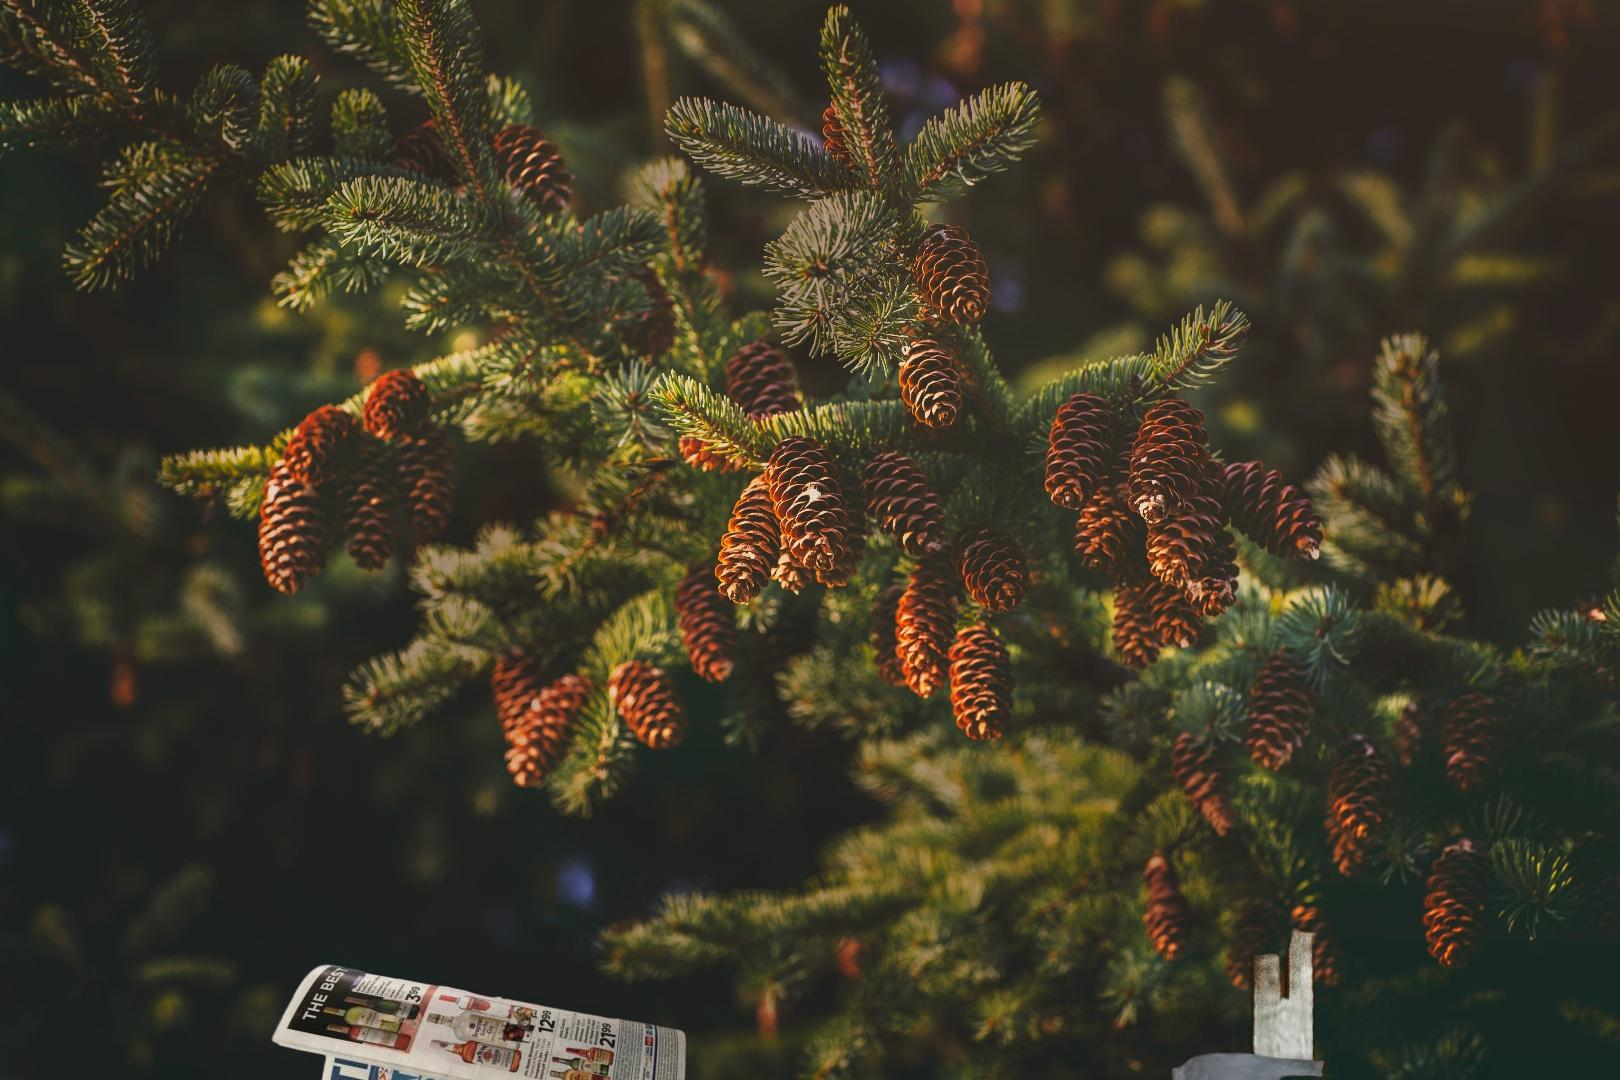paper: (266, 961, 691, 1080)
paper-bag: (1169, 1062, 1375, 1080)
plastic-bag: (1154, 920, 1379, 1080)
